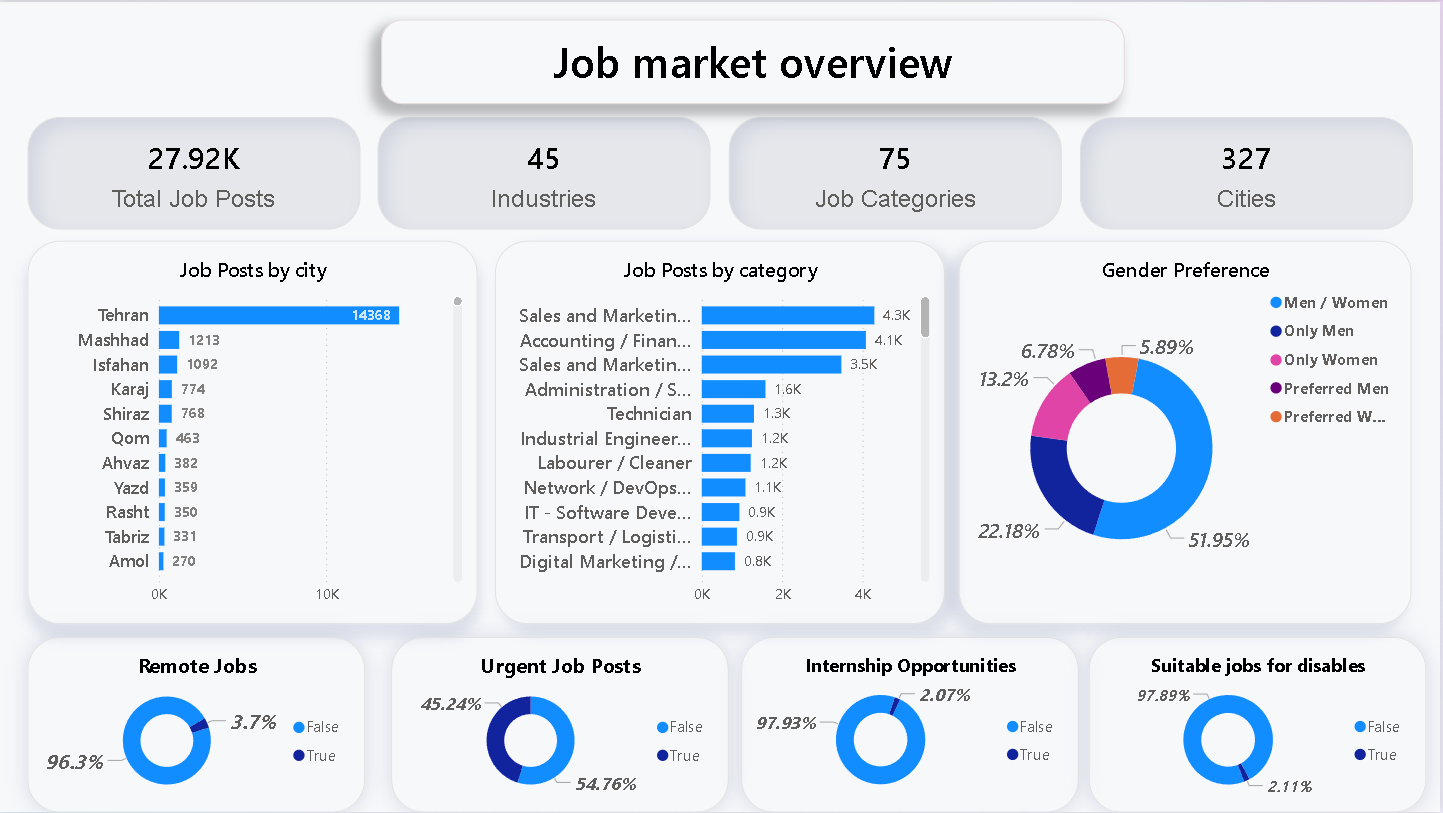

The page's visual inventory and layout, read from the dashboard file:
{"tool":"powerbi","page":{"name":"1 ) Job market Overview","canvas":[1280,720],"ordinal":0},"visuals":[{"type":"card","fields":{"Values":["CountNonNull(JobPost.JobID)"]},"box":[24,102.4,296,100],"z":0},{"type":"card","fields":{"Values":["Count(JobPost.Industry)"]},"box":[336,102,296,100],"z":1000},{"type":"card","fields":{"Values":["Count(Job_Category.Category)"]},"box":[648,102,296,100],"z":2000},{"type":"clusteredBarChart","title":"Job Posts by city","fields":{"Category":["JobPost.City"],"Y":["CountNonNull(JobPost.JobID)"]},"box":[24.5,212.1,399.6,340.5],"z":3000},{"type":"clusteredBarChart","title":"Job Posts by category","fields":{"Category":["Job_Category.Category"],"Y":["CountNonNull(Job_Category.PostID)"]},"box":[440,212.1,399.6,340.5],"z":4000},{"type":"donutChart","title":"Remote Jobs","fields":{"Category":["JobPost.Is_Remote"],"Y":["CountNonNull(JobPost.PostID)"]},"box":[24.5,564.1,300.1,155.8],"z":5000},{"type":"textbox","box":[339,15.9,660.8,75],"z":6000},{"type":"donutChart","title":"Urgent Job Posts","fields":{"Y":["CountNonNull(JobPost.PostID)"],"Category":["JobPost.Is_Urgent"]},"box":[347.7,564.1,300.1,155.8],"z":7000},{"type":"donutChart","title":"Internship Opportunities","fields":{"Y":["CountNonNull(JobPost.PostID)"],"Category":["JobPost.Is_Internship"]},"box":[659.3,564.1,300.1,155.8],"z":8000},{"type":"donutChart","title":"Gender Preference","fields":{"Y":["CountNonNull(JobPost.PostID)"],"Category":["JobPost.Gender"]},"box":[852.7,212.1,402.5,340.5],"z":9000},{"type":"card","fields":{"Values":["Count(JobPost.City)"]},"box":[960,102,296,100],"z":10000},{"type":"donutChart","title":"Urgent Job Posts","fields":{"Y":["CountNonNull(JobPost.PostID)"],"Series":["JobPost.Is_Urgent"]},"box":[967.6,564.1,300.2,156.1],"z":11000}]}

Visuals, with their boxes in screenshot pixels (x1, y1, x2, y2), scaled from the page's 1280x720 canvas onto the 1443x813 screenshot:
card - CountNonNull(JobPost.JobID): left=27, top=116, right=361, bottom=229
card - Count(JobPost.Industry): left=379, top=115, right=712, bottom=228
card - Count(Job_Category.Category): left=731, top=115, right=1064, bottom=228
"Job Posts by city" clusteredBarChart: left=28, top=239, right=478, bottom=624
"Job Posts by category" clusteredBarChart: left=496, top=239, right=947, bottom=624
"Remote Jobs" donutChart: left=28, top=637, right=366, bottom=812
textbox: left=382, top=18, right=1127, bottom=103
"Urgent Job Posts" donutChart: left=392, top=637, right=730, bottom=812
"Internship Opportunities" donutChart: left=743, top=637, right=1082, bottom=812
"Gender Preference" donutChart: left=961, top=239, right=1415, bottom=624
card - Count(JobPost.City): left=1082, top=115, right=1416, bottom=228
"Urgent Job Posts" donutChart: left=1091, top=637, right=1429, bottom=812
